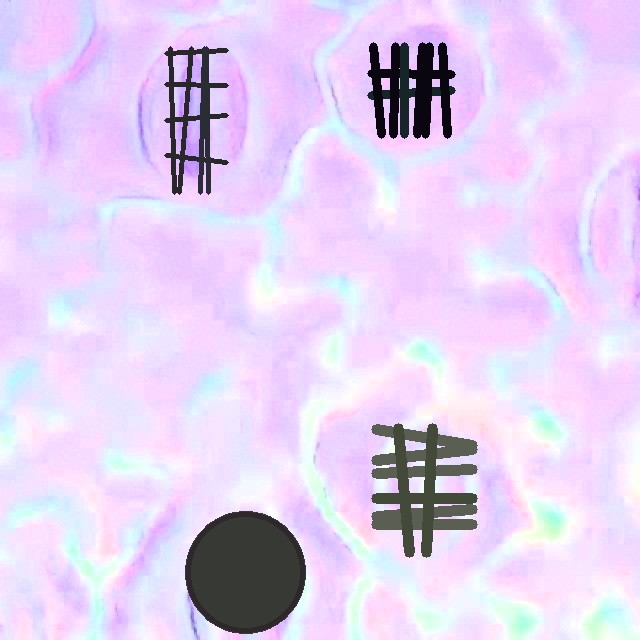close: (371, 424, 476, 556), (367, 42, 455, 138)
open: (185, 511, 305, 633), (164, 46, 228, 194)
